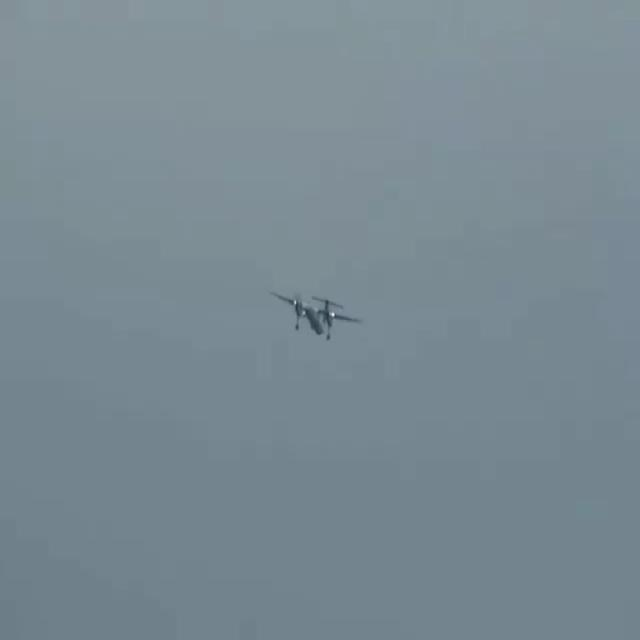AirPlane: (256, 273, 374, 351)
